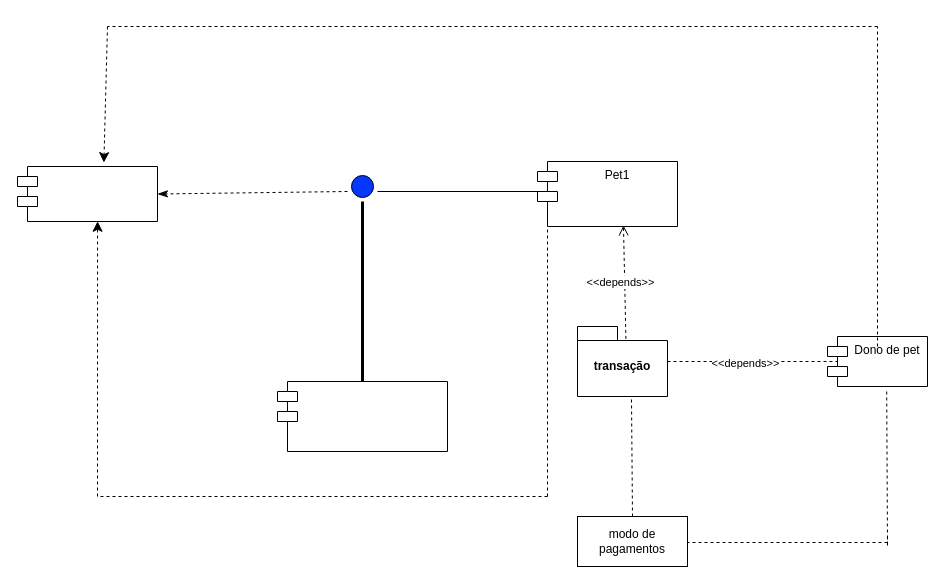
Image size: 945x584. Some labels were removed from this diagram. The shapes that lost their labels are listed below. From the top down, each one's centre as x and y in pixels, then its label:
At point (87, 194): "sistema da clínica veterinária".
At point (362, 416): "ferramenta de pesquisa para consultar dados armazenados no banco de dados".
